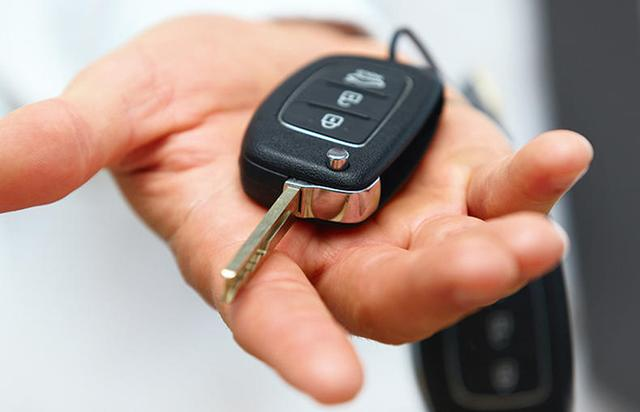key: (209, 49, 455, 302)
